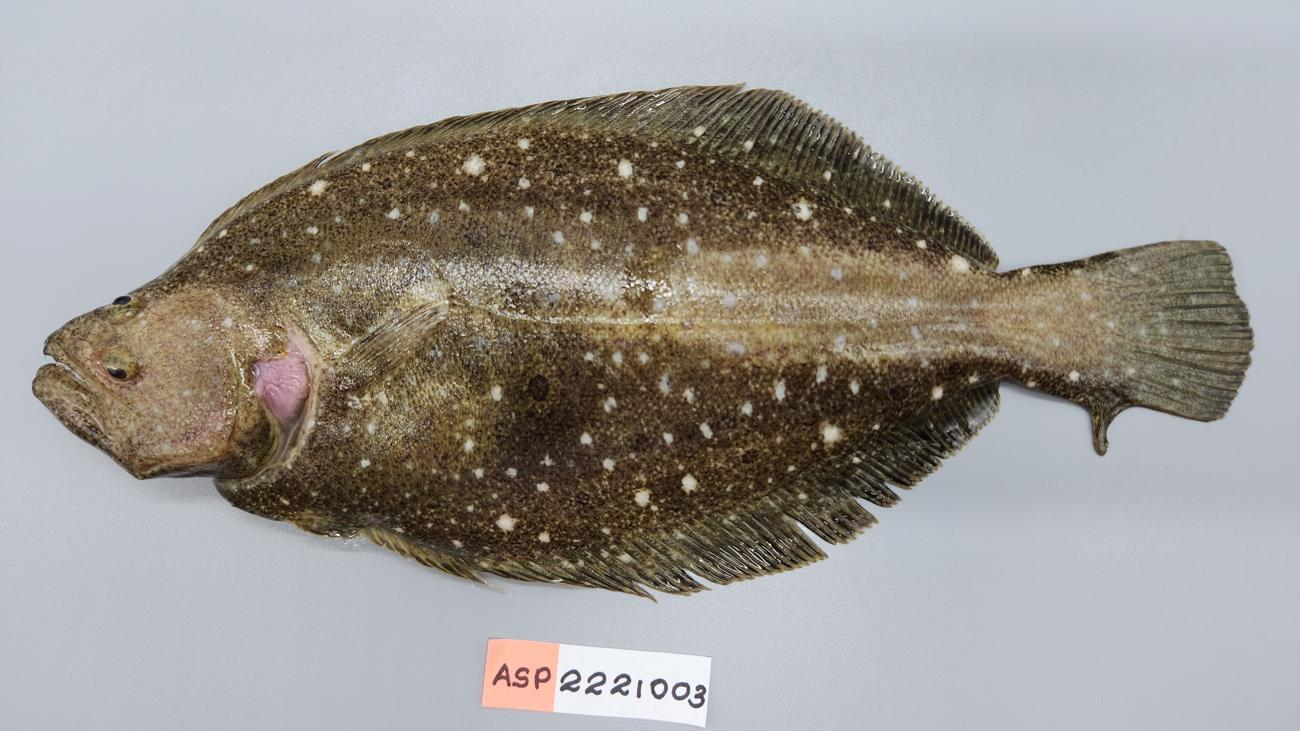SPDYH: (387, 414, 459, 471)
SPOUY: (23, 79, 1265, 611)
